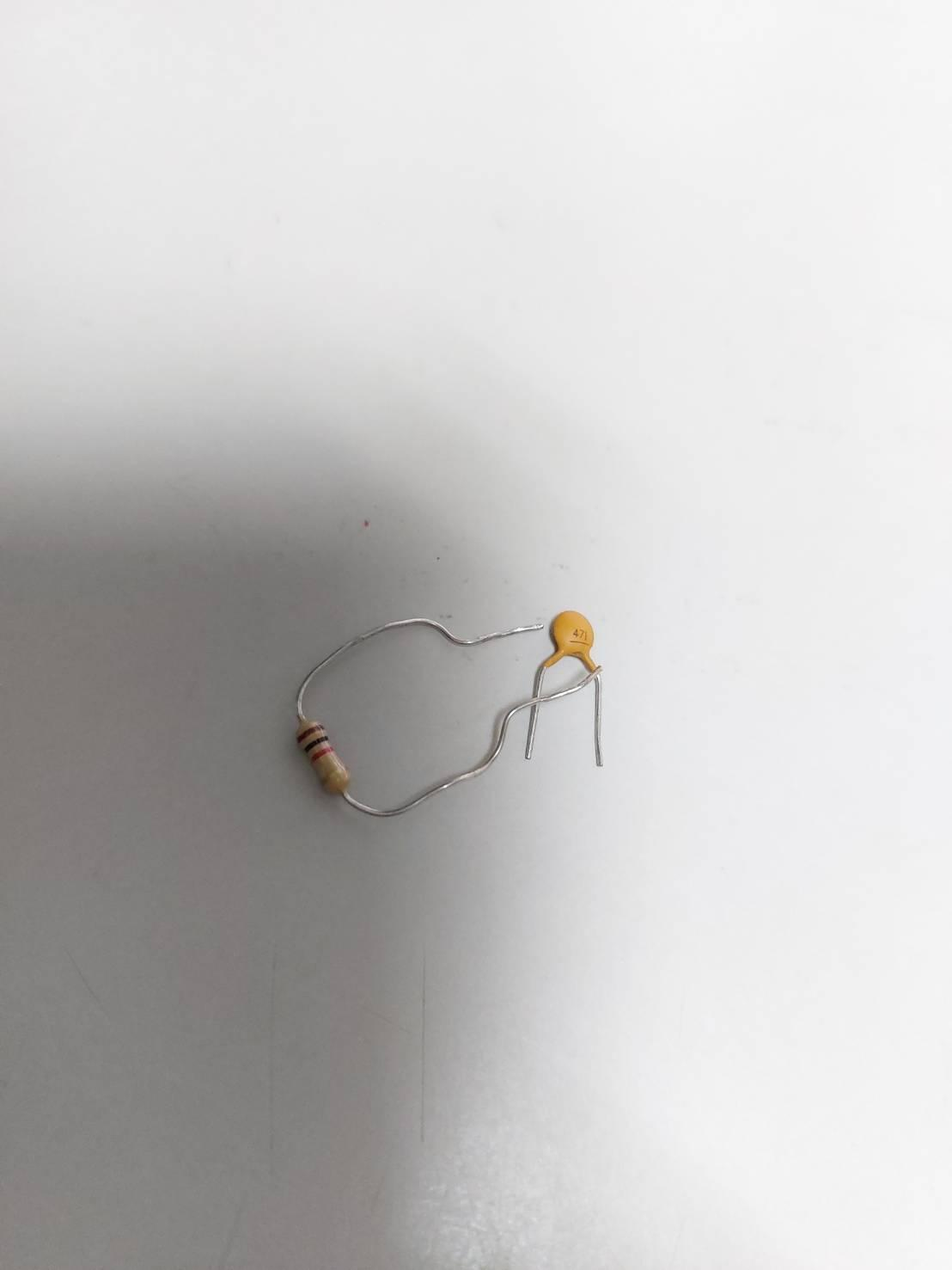resistor: (294, 721, 350, 793)
